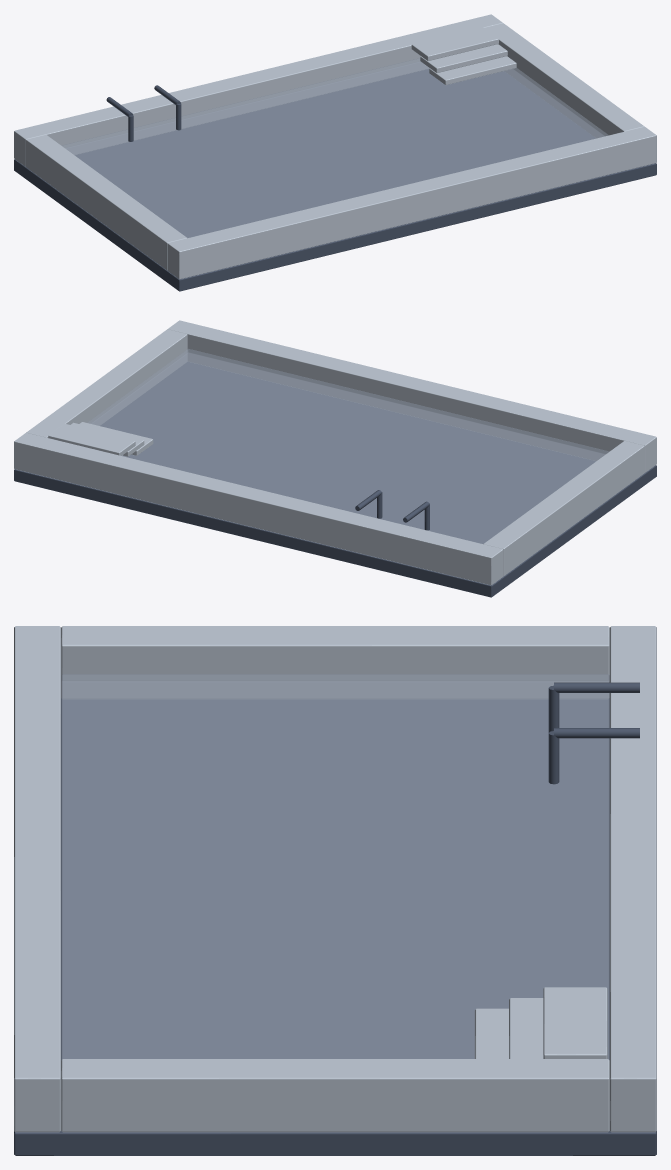
Rendered from 庭院泳池-lite.glb.
3 views of the same model, one above another, from view 1: azimuth 30°, elevation 25°; view 2: azimuth 150°, elevation 25°; view 3: azimuth 270°, elevation 25° (orthographic). The views are drawn at different scales.
Parts seen in each view (by area): view 1: garden-pool; view 2: garden-pool; view 3: garden-pool.
Boxes of the visible parts, x1,y1,x2,y2 form: garden-pool: (14, 14, 656, 291); garden-pool: (14, 320, 656, 597); garden-pool: (14, 626, 656, 1155).
Bounding box in the file's own units: 5 × 0.55 × 3.
